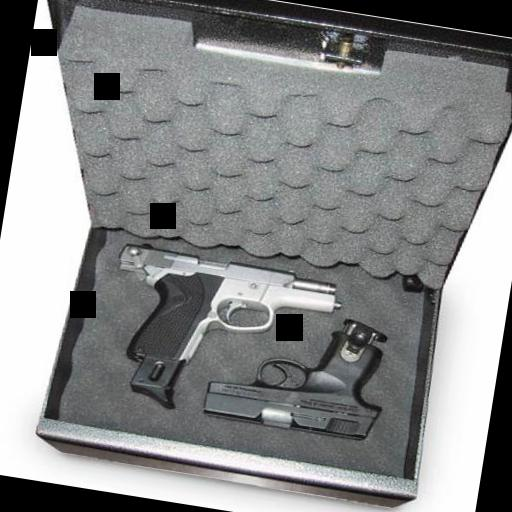Handgun: (105, 239, 346, 389), (196, 311, 406, 443)
